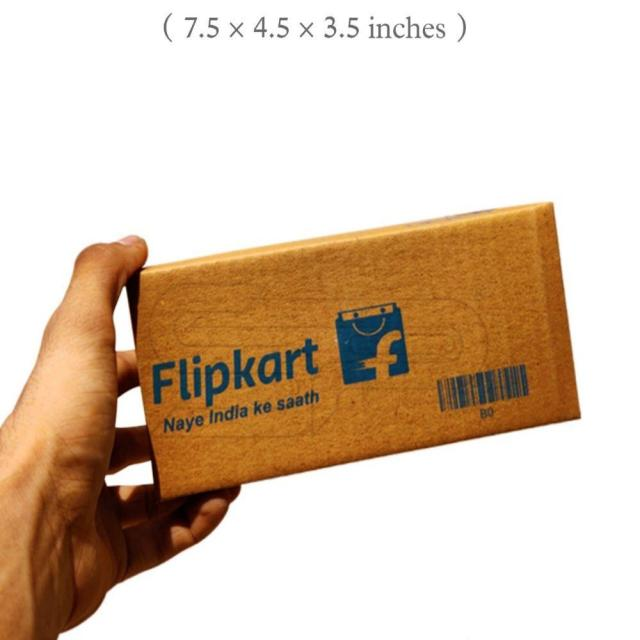box: (100, 173, 600, 550)
